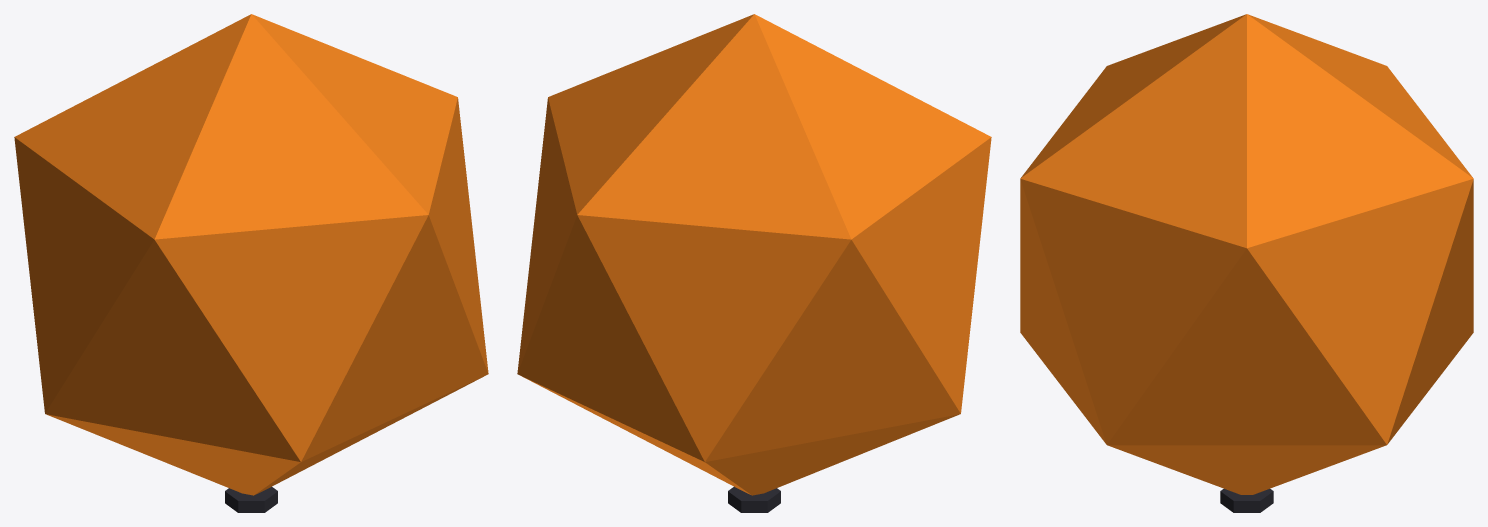
Rendered from medicine_ball.fbx.
3 renders of one model, left to right at view 1: azimuth 30°, elevation 25°; view 2: azimuth 150°, elevation 25°; view 3: azimuth 270°, elevation 25°, orthographic.
Parts seen in each view (by area): view 1: medicine_ball; view 2: medicine_ball; view 3: medicine_ball.
Part boxes in pixels (x1=…): medicine_ball: x1=14, y1=14, x2=488, y2=512; medicine_ball: x1=517, y1=14, x2=991, y2=512; medicine_ball: x1=1020, y1=14, x2=1473, y2=512.
Size of the model in its own units: 0.3578 by 0.405 by 0.3403.
